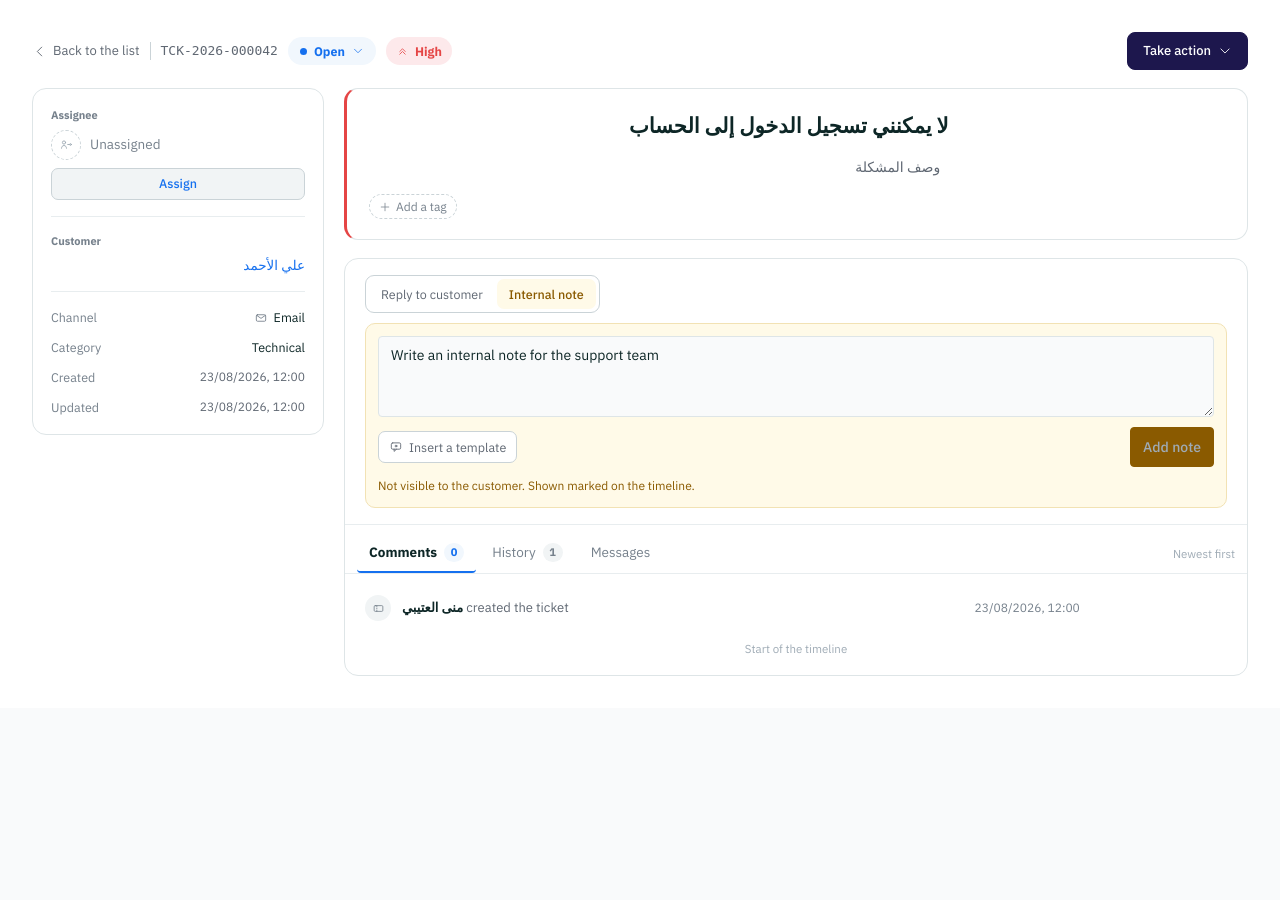
Test: AC-6 — expectedVersion comes from the read, and AC-4/AC-5 keep the answers apart › a 409 says what happened, refetches, and does not retry
This screenshot has width=1280, height=900.
Check: the text "TCK-2026-000042" is shown, box top-left (160, 41), bottom-right (278, 61)
Click the button "Open" at (332, 51), box top-left (288, 37), bottom-right (376, 65)
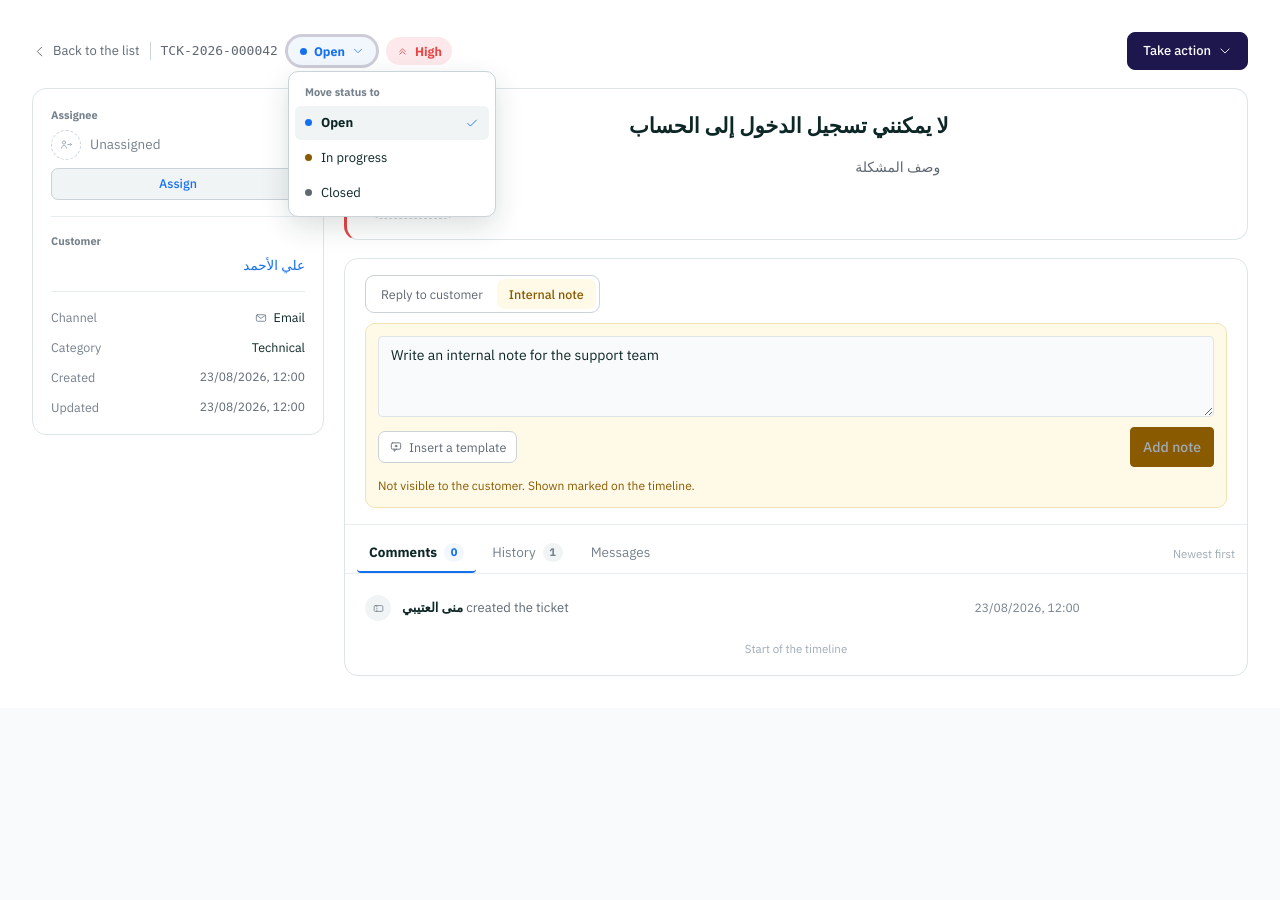
Click the menu item "In progress" at (392, 158), box top-left (295, 141), bottom-right (489, 175)
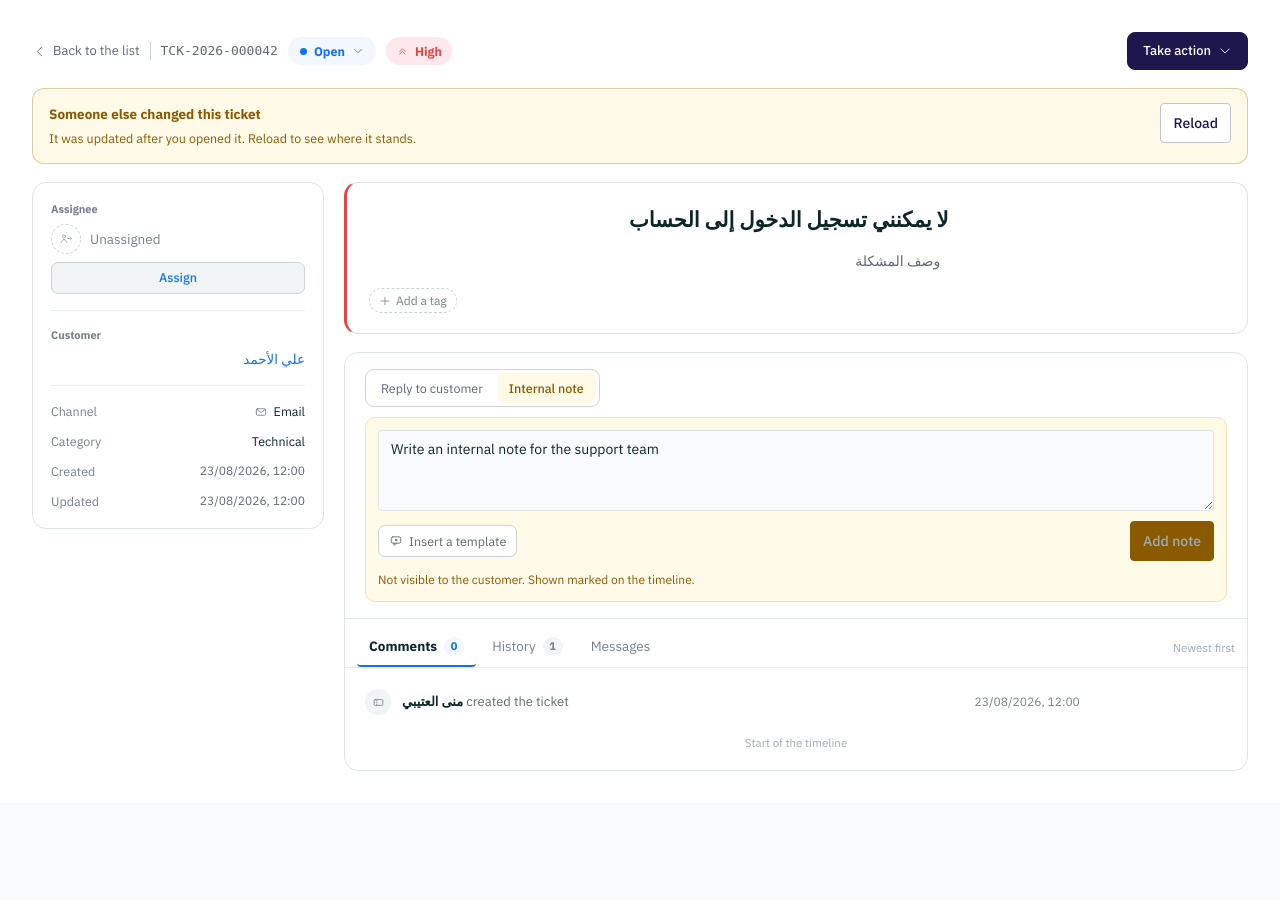
Check: the text "Someone else changed this ticket" is shown, box top-left (49, 105), bottom-right (261, 123)
